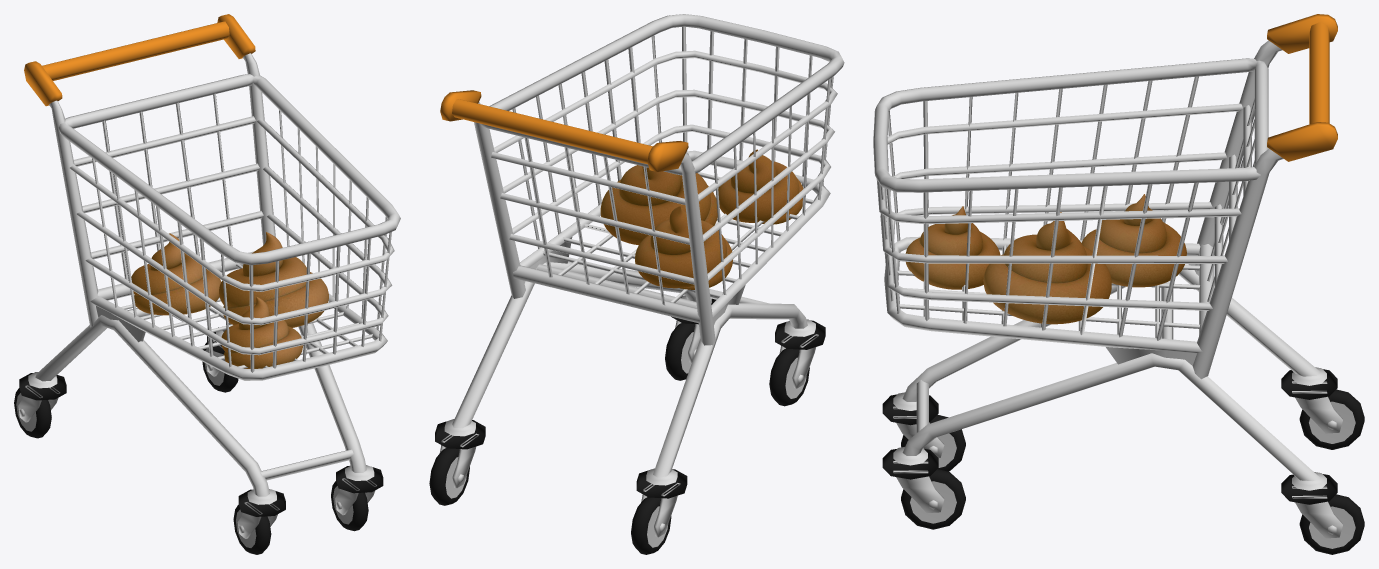
The model's file is shit_shopping_cart.glb.
3 renders of one model, left to right at view 1: azimuth 30°, elevation 25°; view 2: azimuth 150°, elevation 25°; view 3: azimuth 270°, elevation 25°, orthographic. The views are drawn at different scales.
Parts seen in each view (by area): view 1: Spiral.001_0; view 2: Spiral.001_0; view 3: Spiral.001_0.
Boxes of the visible parts, left/top/right/bottom form: Spiral.001_0: left=14, top=14, right=400, bottom=554; Spiral.001_0: left=429, top=14, right=844, bottom=554; Spiral.001_0: left=873, top=14, right=1364, bottom=554.
Bounding box in the file's own units: 0.5602 × 0.8765 × 0.9057.
6 materials, 3 textured.
